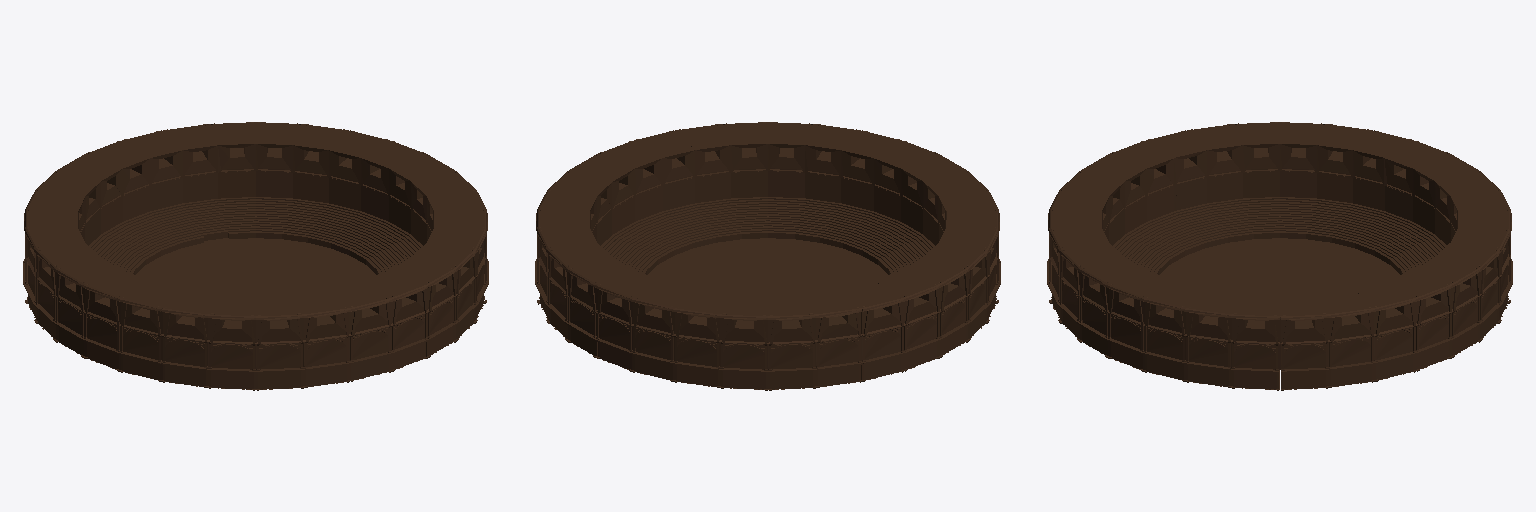
The model's file is arena.obj.
The picture shows the model from 3 angles: view 1: azimuth 30°, elevation 25°; view 2: azimuth 150°, elevation 25°; view 3: azimuth 270°, elevation 25°; orthographic projection.
Visible parts, largest first — view 1: colosseum; view 2: colosseum; view 3: colosseum.
Part boxes in pixels (x1,y1,x2,y2): colosseum: (23,122,488,390); colosseum: (535,122,1000,390); colosseum: (1047,122,1512,390).
Bounding box in the file's own units: 127 × 22.13 × 126.